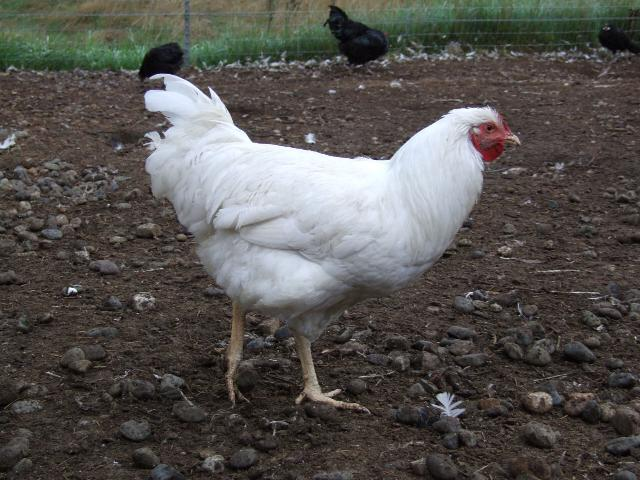Chicken: (144, 70, 522, 414), (322, 5, 391, 71), (139, 39, 183, 80)
